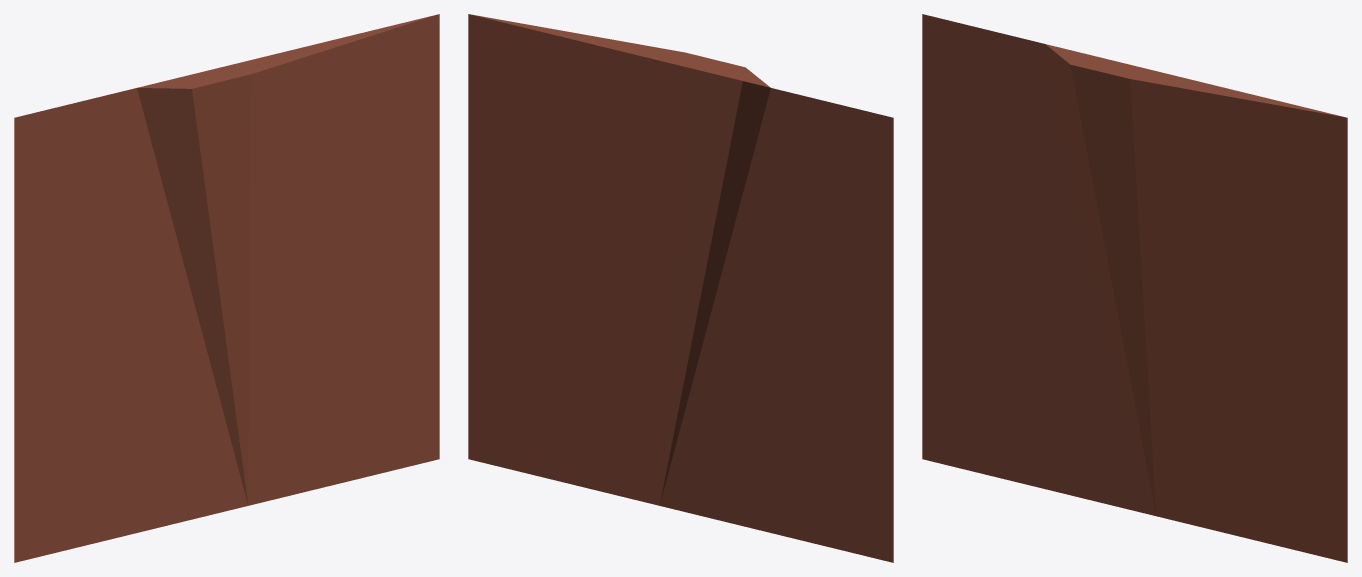
Rendered from Wall_002.FBX.
3 views of the same model, side by side, from view 1: azimuth 30°, elevation 25°; view 2: azimuth 150°, elevation 25°; view 3: azimuth 330°, elevation 25° (orthographic).
Visible parts, largest first — view 1: Wall_002; view 2: Wall_002; view 3: Wall_002.
Part boxes in pixels (x1,y1,x2,y2): Wall_002: [14, 14, 439, 562]; Wall_002: [468, 14, 893, 562]; Wall_002: [922, 14, 1347, 562].
Bounding box in the file's own units: 78.74 × 78.76 × 4.72.
